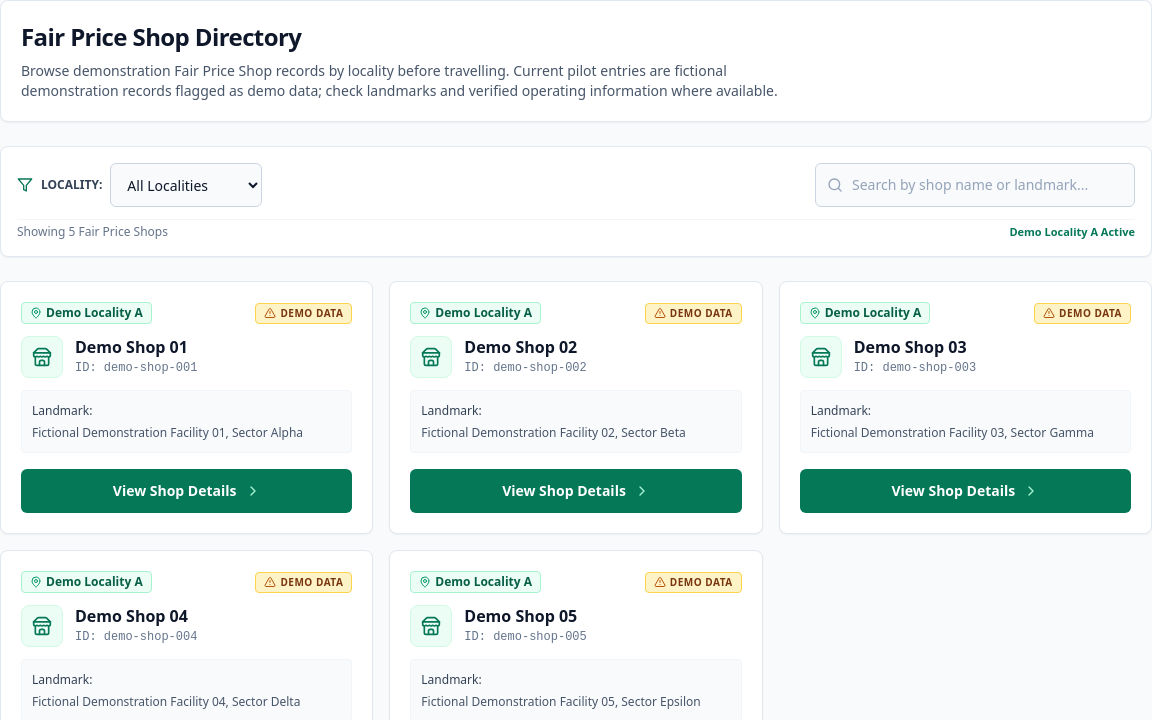
Test case: Shop Directory Frontend Components › ShopList › filters shops using the search input
The width and height of the screenshot is (1152, 720).
Expected: the heading "Demo Shop 01" is shown, [75, 336, 197, 358]
Type "Sector Gamma" into the field with placeholder "Search by shop name or landmark..." at (975, 185), box [815, 163, 1135, 207]
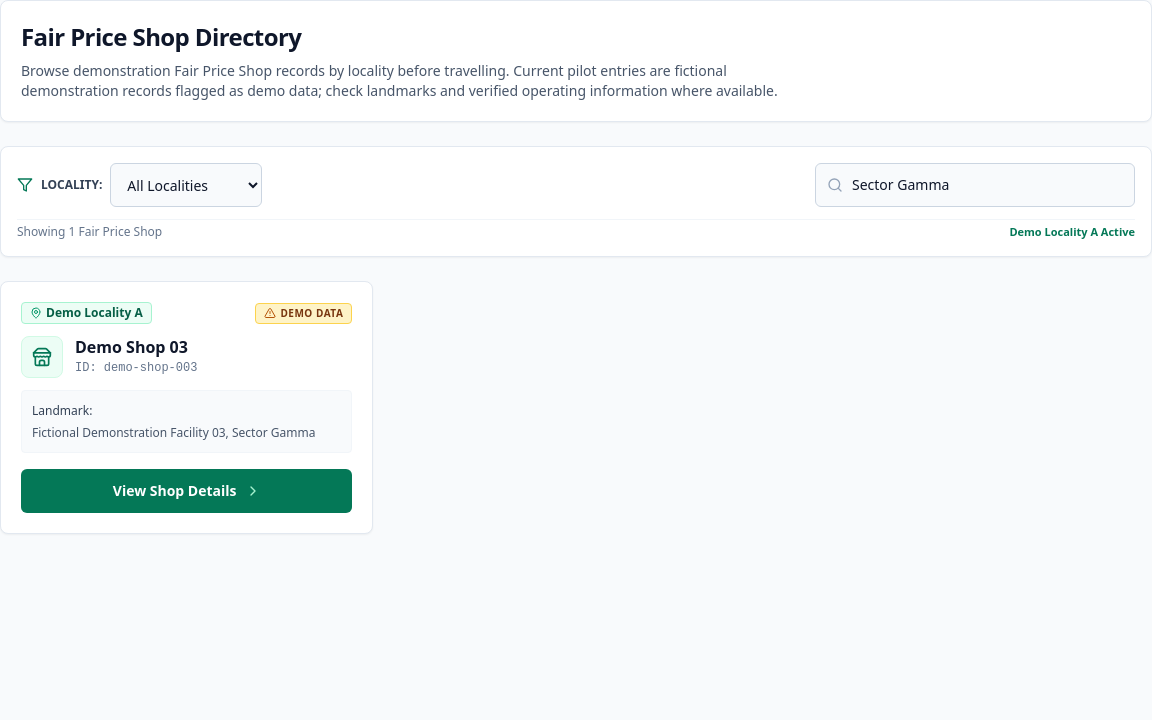
Expected: the heading "Demo Shop 03" is shown, [75, 336, 197, 358]
Expected: the heading "Demo Shop 01" is gone
Expected: the heading "Demo Shop 02" is gone
